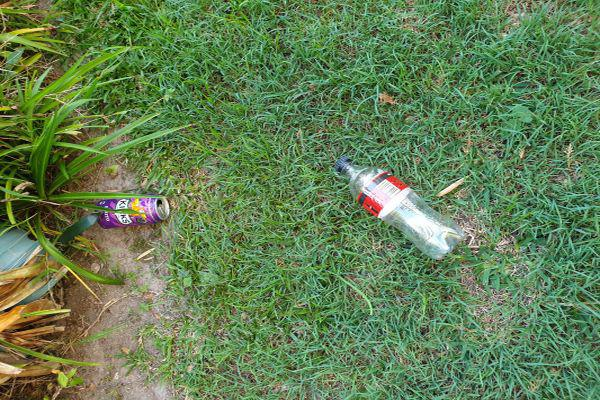Plastic Bottle: (333, 155, 467, 261), (95, 196, 171, 230)
